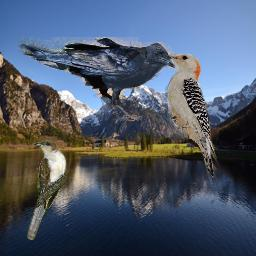Crow: (18, 37, 176, 121)
Cuckoo: (27, 140, 67, 240)
Woodpecker: (157, 45, 221, 184)
